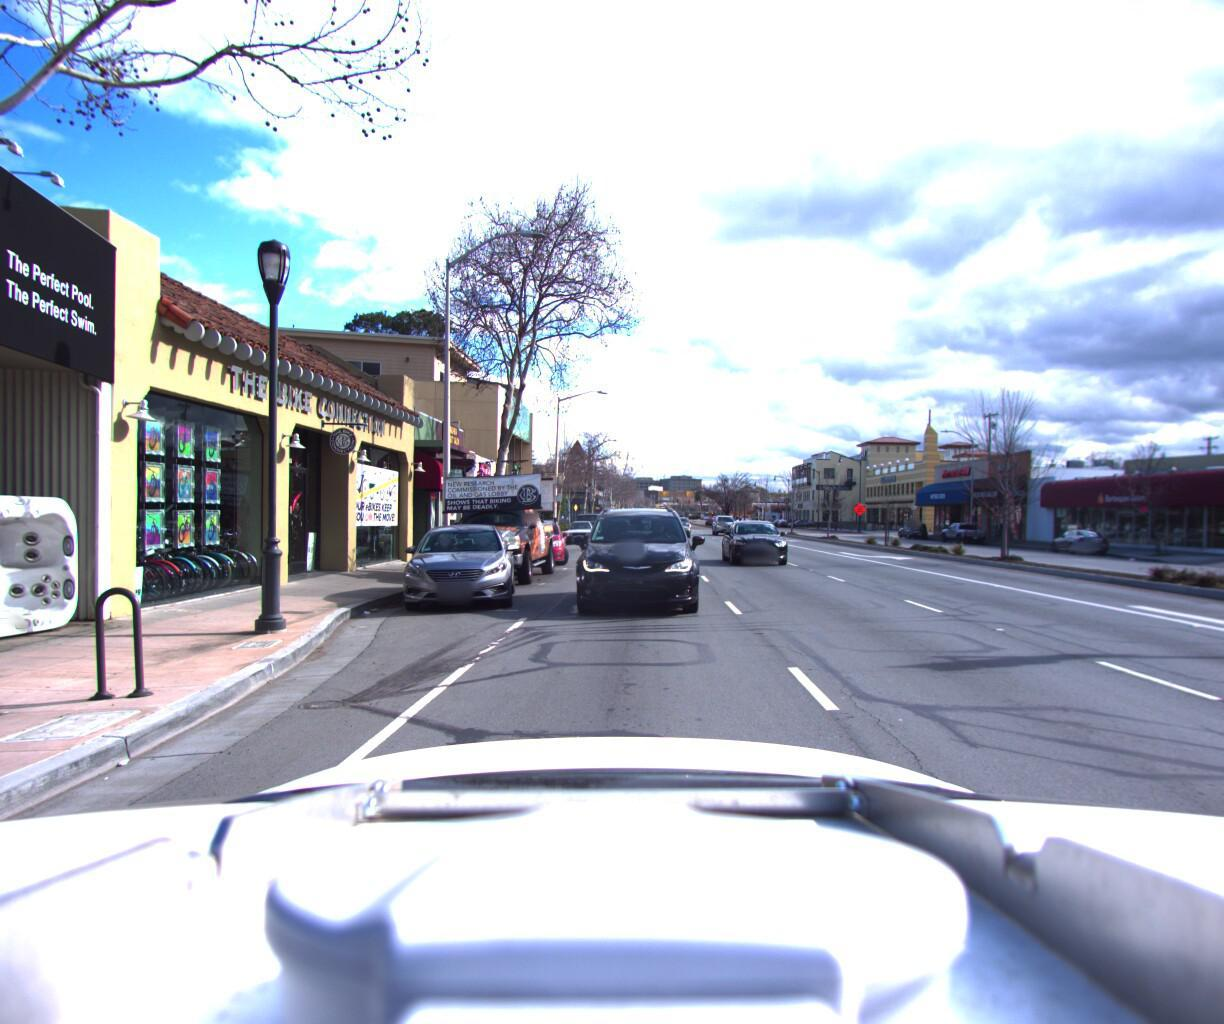car: (437, 450, 564, 583), (578, 501, 701, 621), (401, 515, 515, 612), (724, 516, 800, 570), (516, 513, 571, 565), (1049, 524, 1111, 552), (941, 516, 991, 541), (565, 516, 596, 542), (895, 516, 932, 536), (715, 513, 743, 536), (669, 516, 697, 537)
